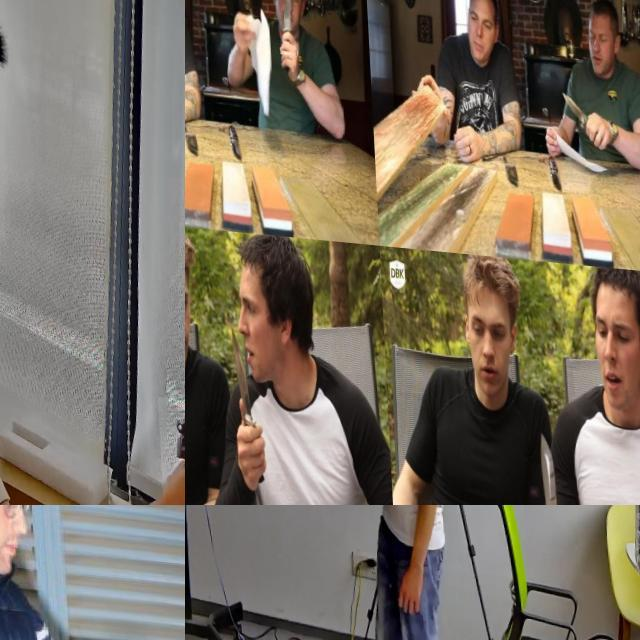-: (220, 313, 262, 485), (521, 415, 567, 505), (557, 76, 600, 136), (276, 0, 298, 50)
gun-knife-thesis - v11 Yolov5 augmented: (254, 505, 312, 552)
